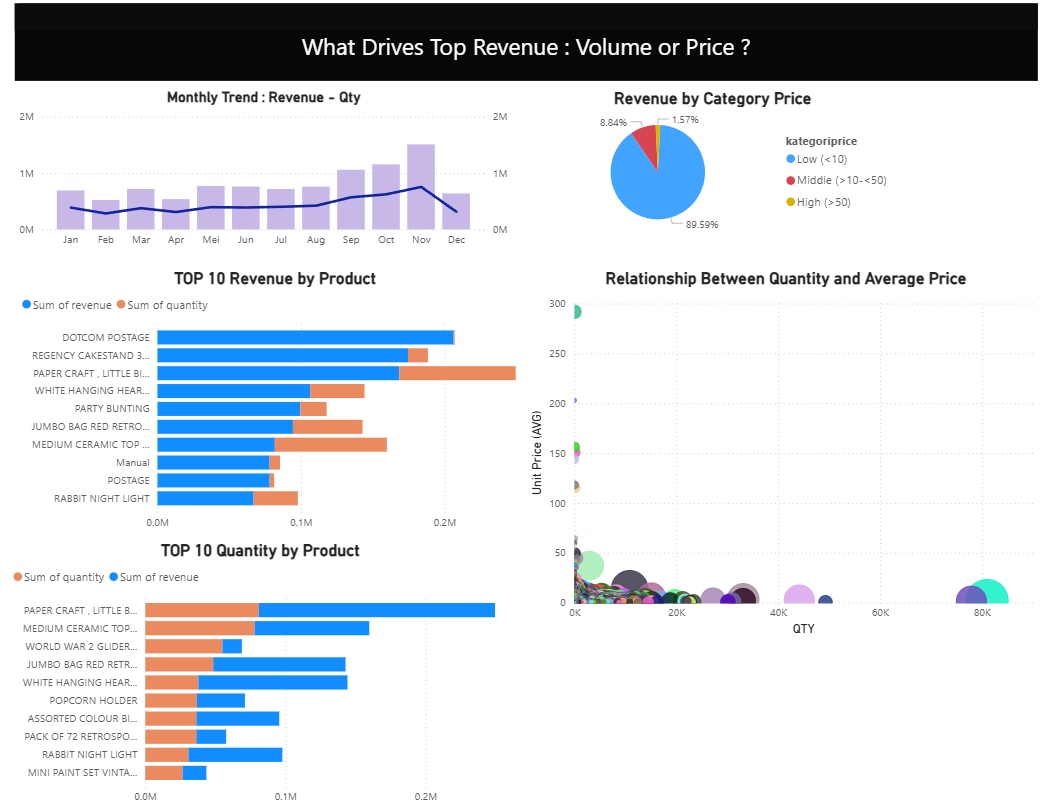

This screenshot's page, from the dashboard's own definition file:
{"tool":"powerbi","page":{"name":"Sales and Pricing","canvas":[1280,1000],"ordinal":1},"visuals":[{"type":"lineClusteredColumnComboChart","title":"Monthly Trend : Revenue - Qty","fields":{"Category":["Query3.namabulan"],"Y":["Sum(Query3.revenue)"],"Y2":["Sum(Query3.qty)"]},"box":[32.9,155.1,581.8,194.9],"z":0},{"type":"textbox","title":" ","box":[32.9,54.9,1195.2,90.6],"z":1000},{"type":"barChart","title":"TOP 10 Revenue by Product","fields":{"Category":["Query1.description"],"Y":["Sum(Query1.revenue)","Sum(Query1.quantity)"]},"box":[37,365,602.4,314.2],"z":2000},{"type":"barChart","title":"TOP 10 Quantity by Product","fields":{"Category":["Query1.description"],"Y":["Sum(Query1.quantity)","Sum(Query1.revenue)"]},"box":[26.3,683.4,588.5,316.9],"z":3000},{"type":"pieChart","title":"Revenue by Category Price","fields":{"Category":["Q_pricecategory.kategoriprice"],"Y":["Sum(Q_pricecategory.revenue)"]},"box":[631.2,155.1,436.4,174.3],"z":4000},{"type":"scatterChart","title":"Relationship Between Quantity and Average Price","fields":{"X":["Sum(Q_pricecategory.quantity)"],"Size":["Sum(Q_pricecategory.revenue)"],"Series":["Q_pricecategory.description"],"Y":["Sum(Q_pricecategory.avg_price)"]},"box":[630.8,365.1,607.5,433.7],"z":5000}]}

Visuals, with their boxes in screenshot pixels (x1, y1, x2, y2), scaled from the page's 1280x1000 canvas onto the 1043x807 screenshot:
"Monthly Trend : Revenue - Qty" lineClusteredColumnComboChart: (27, 125, 501, 282)
" " textbox: (27, 44, 1001, 117)
"TOP 10 Revenue by Product" barChart: (30, 295, 521, 548)
"TOP 10 Quantity by Product" barChart: (21, 552, 501, 806)
"Revenue by Category Price" pieChart: (514, 125, 870, 266)
"Relationship Between Quantity and Average Price" scatterChart: (514, 295, 1009, 645)
